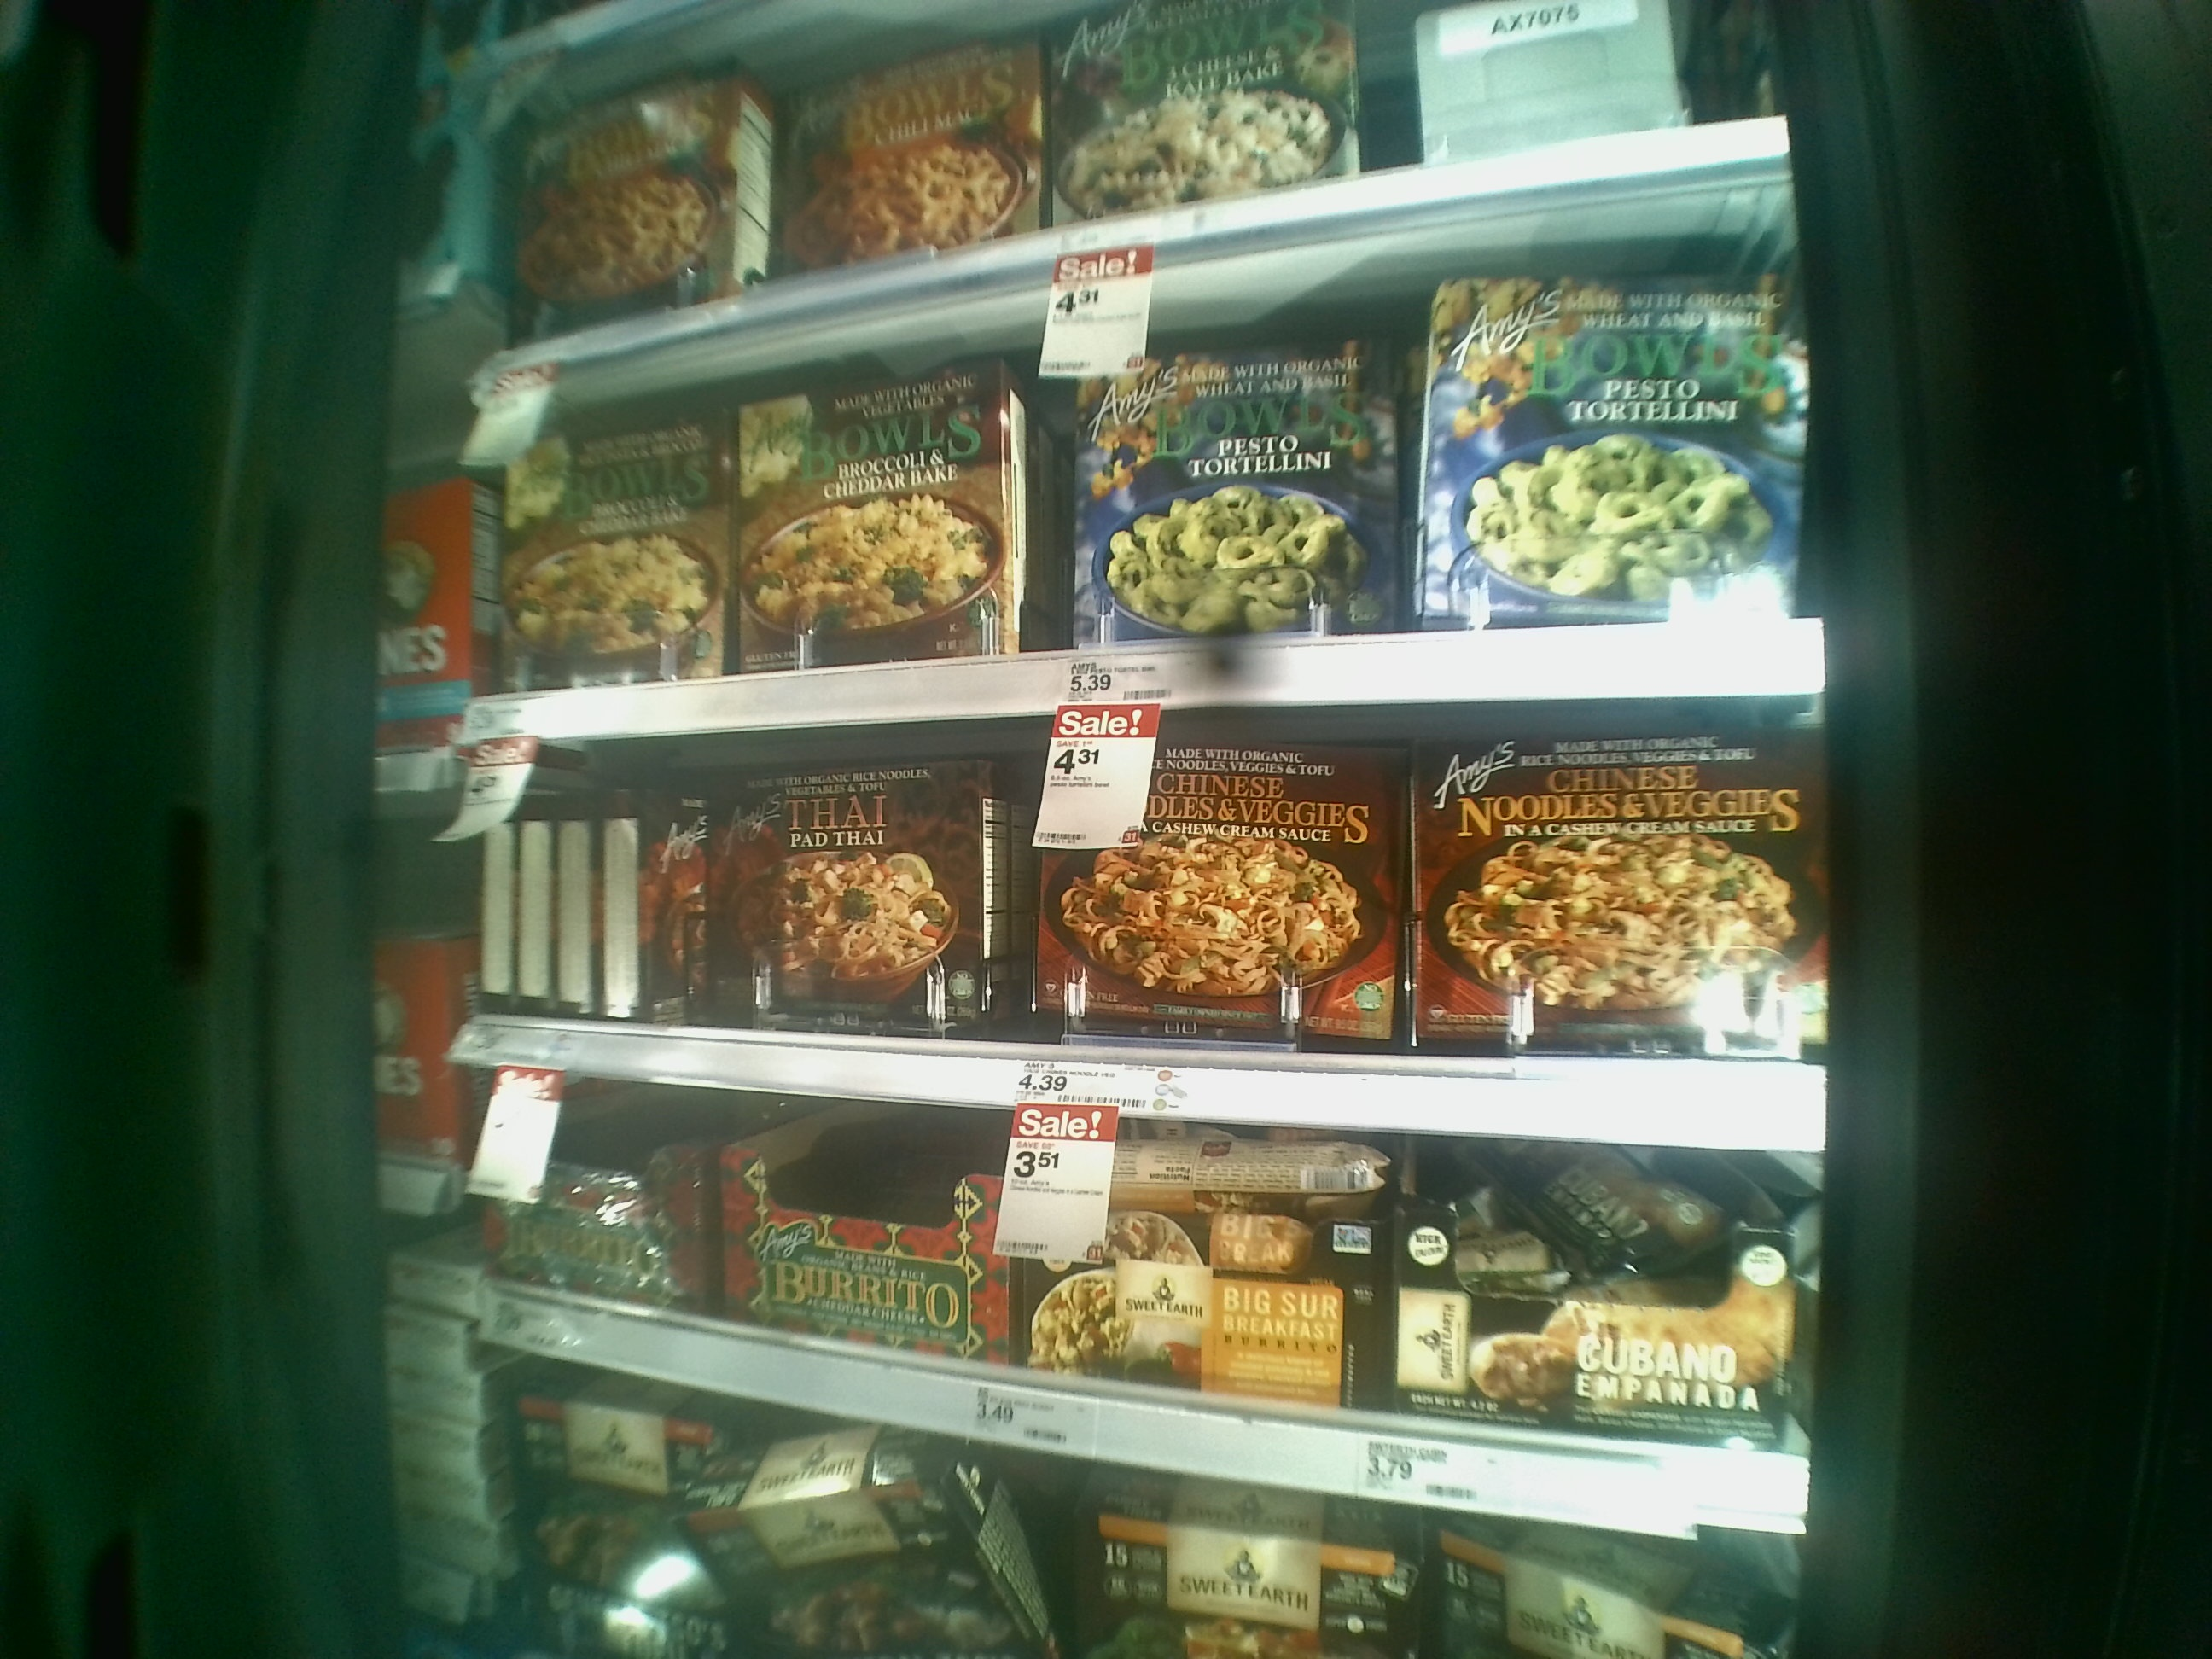frozen-food-shelf: (425, 753, 1829, 1150), (456, 387, 1825, 728)
